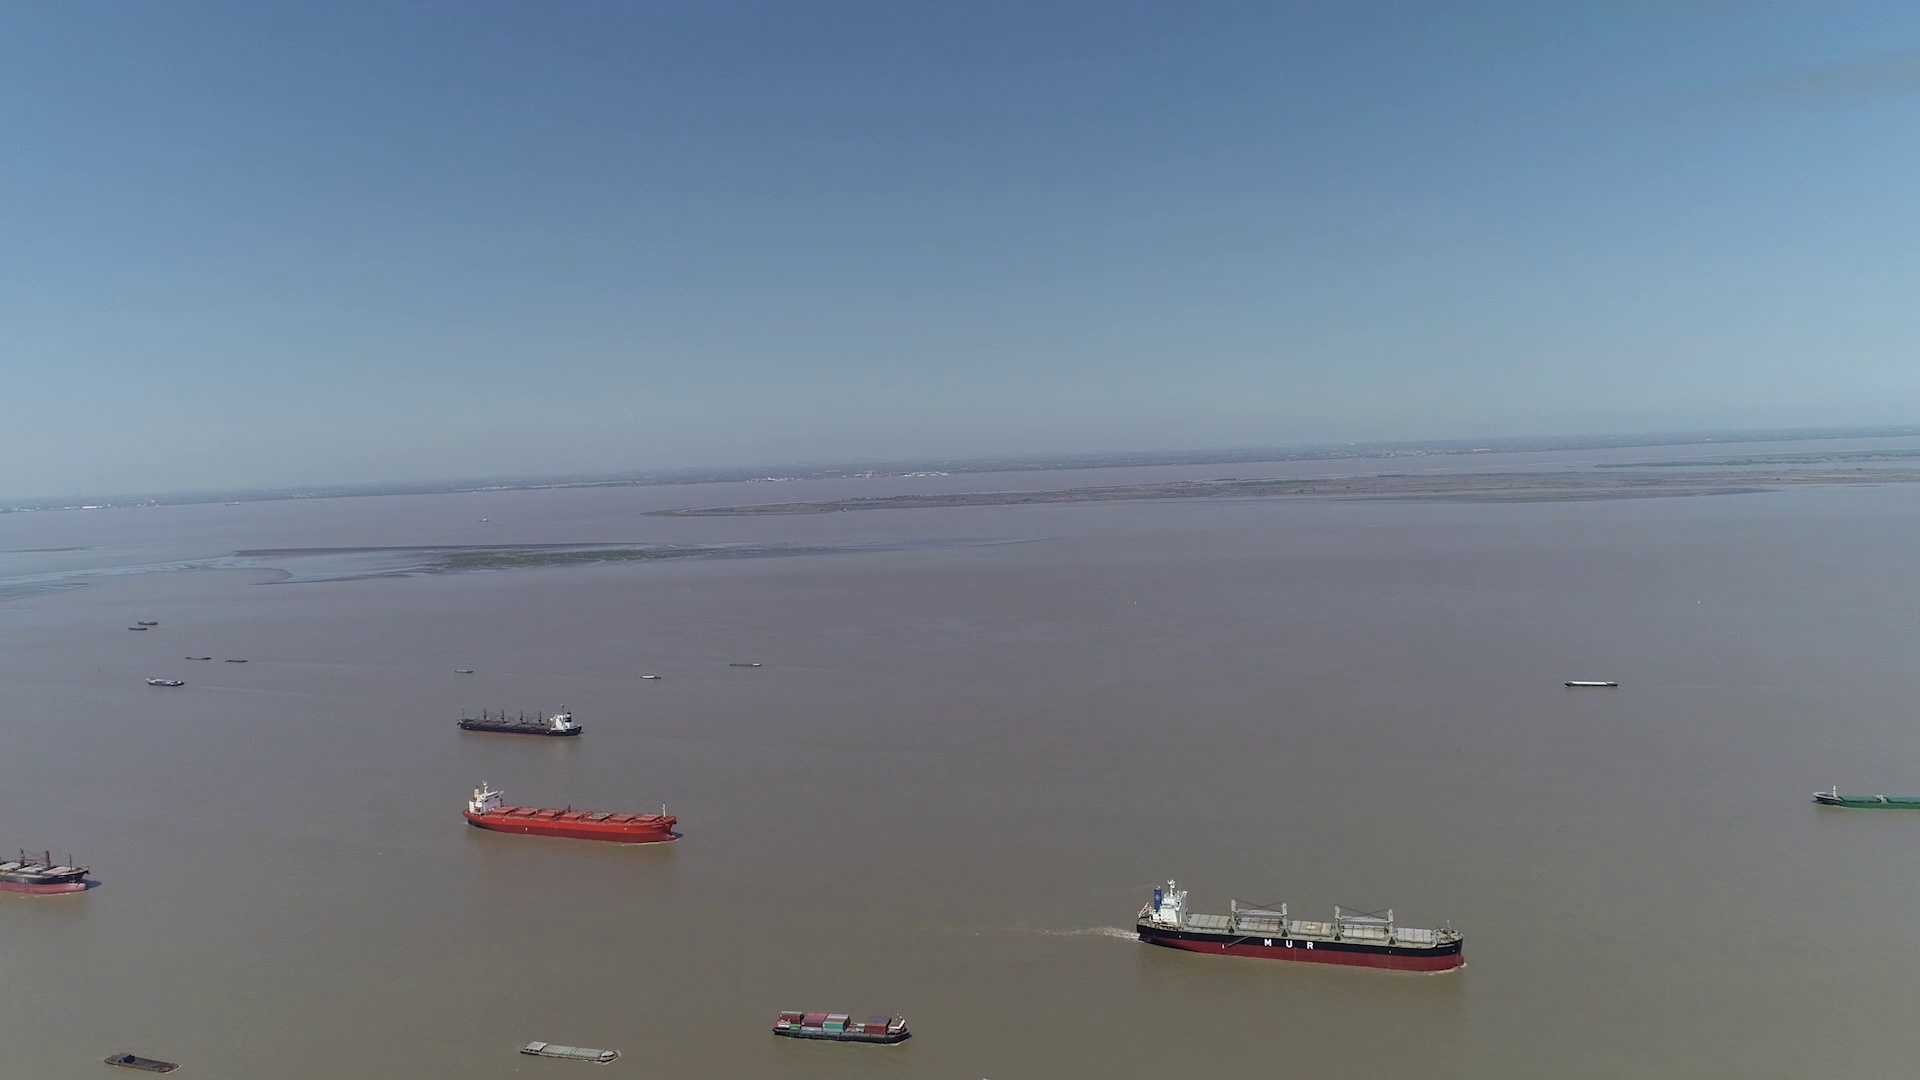ship: (1138, 880, 1465, 972), (465, 779, 680, 845), (0, 836, 95, 897), (774, 1011, 910, 1044), (456, 705, 582, 737), (1812, 789, 1920, 811), (520, 1039, 620, 1063), (105, 1052, 177, 1073), (1567, 678, 1618, 687), (146, 675, 183, 687)
